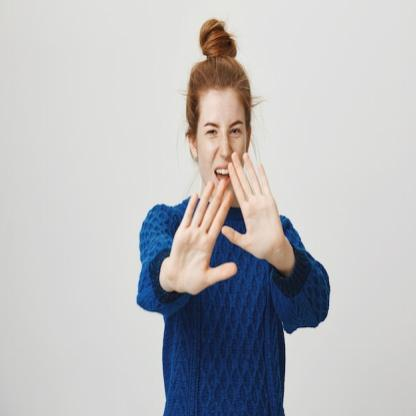stop: (165, 175, 240, 295), (222, 150, 286, 261)
